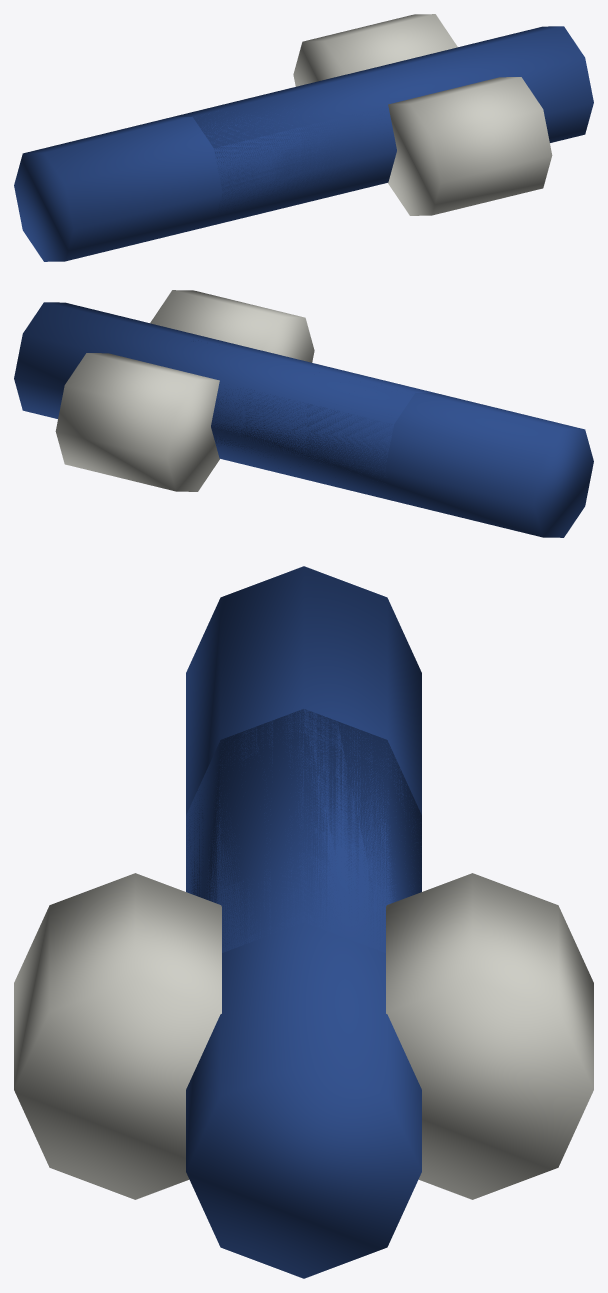
File: batteries.glb
3 views of the same model, one above another, from view 1: azimuth 30°, elevation 25°; view 2: azimuth 150°, elevation 25°; view 3: azimuth 270°, elevation 25° (orthographic). The views are drawn at different scales.
Visible parts, largest first — view 1: Item; view 2: Item; view 3: Item.
Boxes of the visible parts, box(x1,y1,x2,y2) form: Item: box(14, 14, 593, 261); Item: box(14, 290, 593, 537); Item: box(14, 566, 593, 1278).
Bounding box in the file's own units: 0.07 × 0.0144 × 0.0344.
